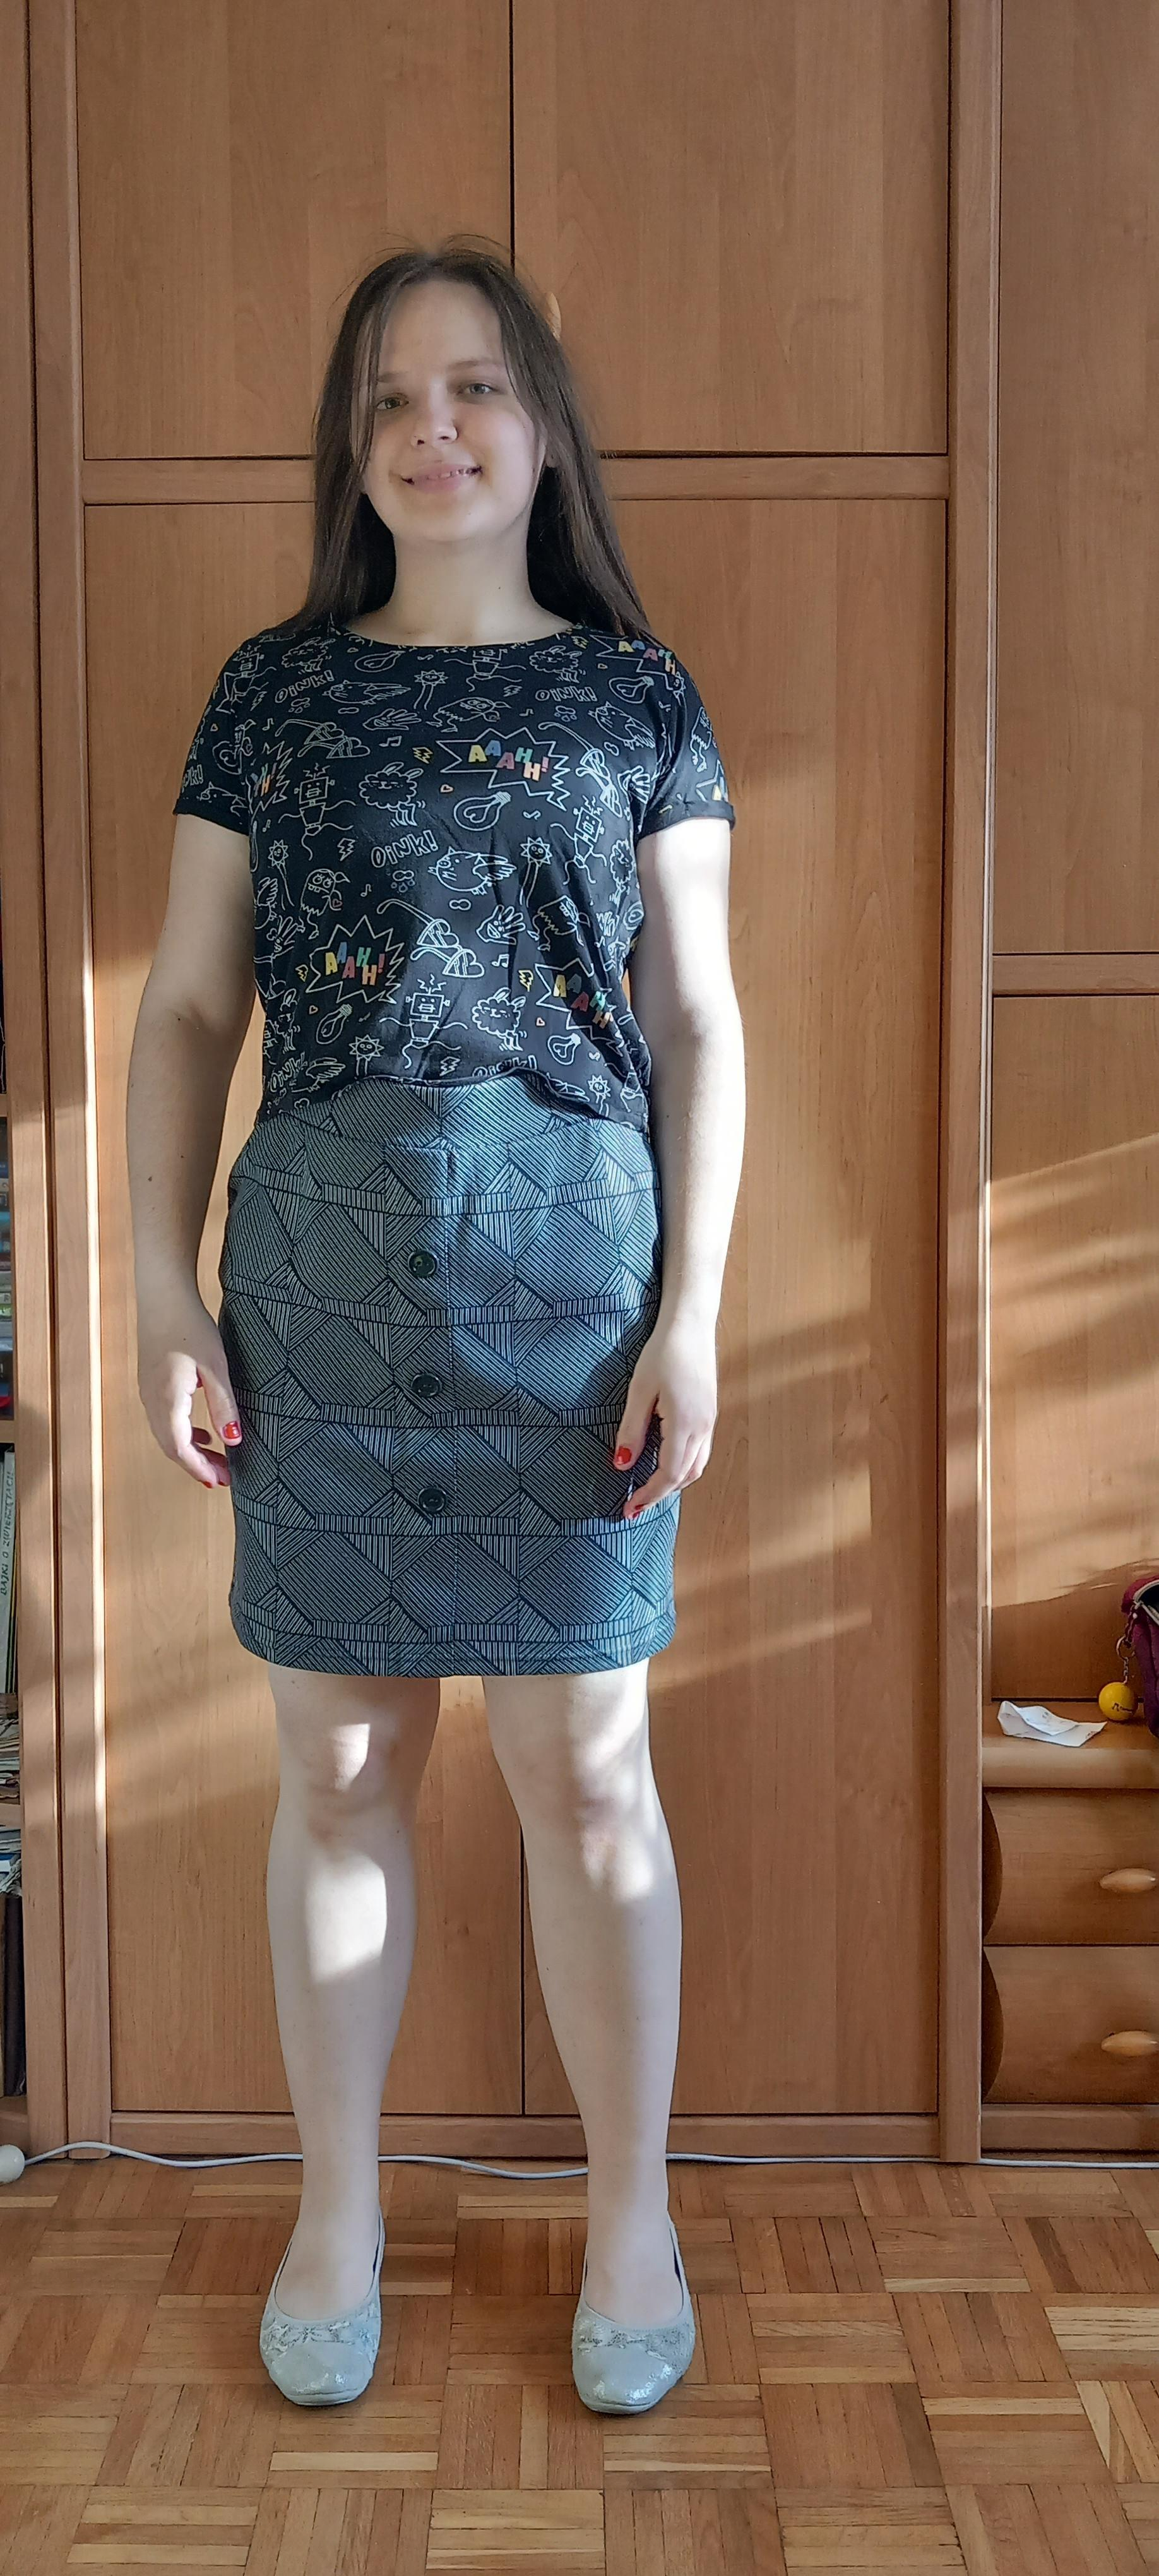Tshirt: (172, 601, 735, 1125)
skirt: (218, 1076, 704, 1677)
